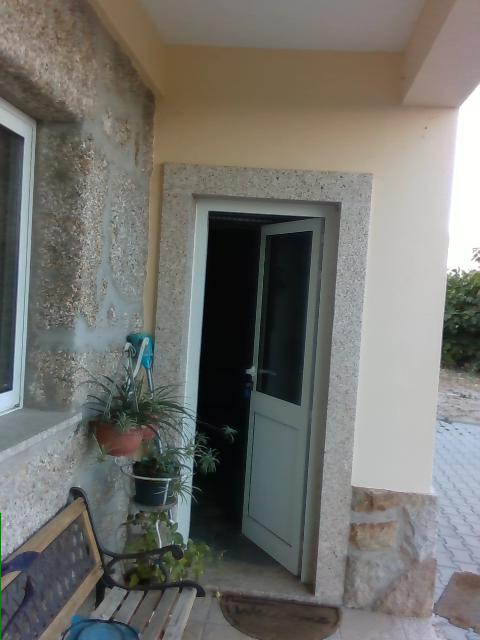semi_door: (174, 193, 340, 584)
